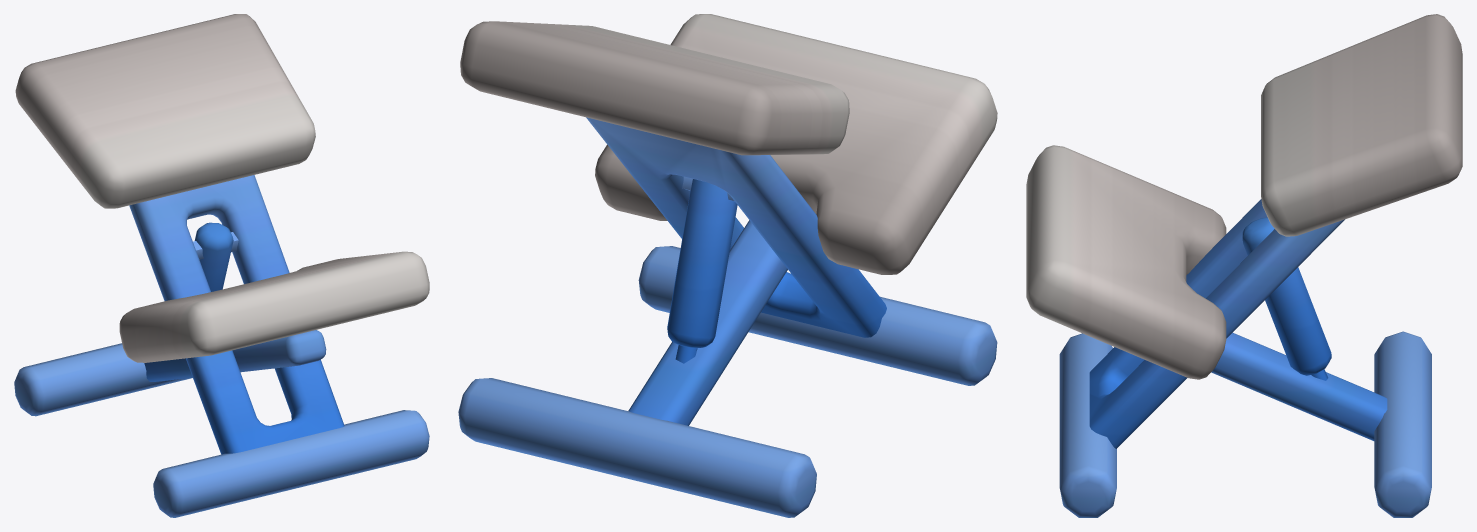
Rendered from Chair_22.glb.
3 views of the same model, side by side, from view 1: azimuth 30°, elevation 25°; view 2: azimuth 150°, elevation 25°; view 3: azimuth 270°, elevation 25° (orthographic). The views are drawn at different scales.
Visible parts, largest first — view 1: Chair_22; view 2: Chair_22; view 3: Chair_22.
Part boxes in pixels (left/top/right/bottom): Chair_22: left=14, top=14, right=429, bottom=517; Chair_22: left=458, top=14, right=997, bottom=517; Chair_22: left=1026, top=14, right=1462, bottom=517.
Size of the model in its own units: 0.5578 by 0.688 by 0.7188.
Materials: 1 (1 with a texture image).
